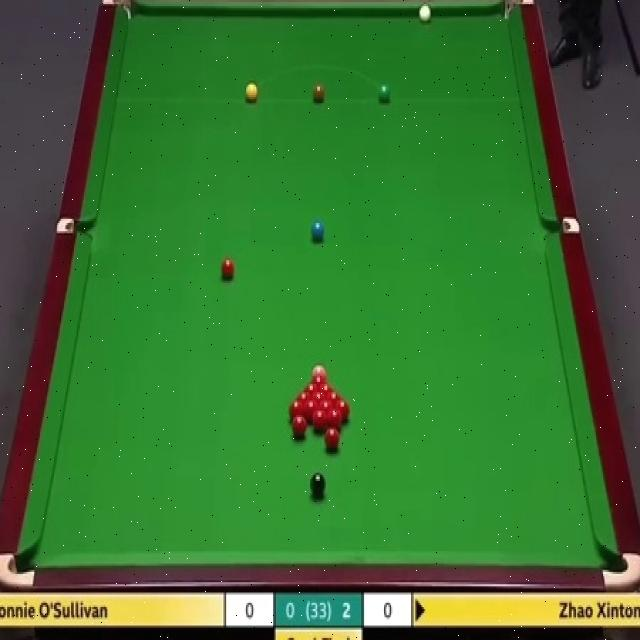black-ball: (310, 472, 327, 500)
blue-ball: (310, 220, 325, 243)
brown-ball: (313, 82, 325, 103)
green-ball: (377, 82, 390, 103)
pink-ball: (312, 362, 328, 378)
red-ball: (220, 256, 238, 285), (324, 429, 342, 452), (326, 409, 343, 431), (291, 414, 307, 436), (312, 409, 327, 431), (319, 400, 334, 420), (289, 399, 305, 416), (334, 401, 351, 417), (304, 400, 318, 419), (327, 392, 343, 402), (296, 391, 311, 401), (311, 392, 327, 401), (319, 383, 335, 392), (304, 383, 319, 392), (311, 375, 327, 383)
white-ball: (418, 1, 433, 25)
yellow-ball: (246, 83, 258, 103)
